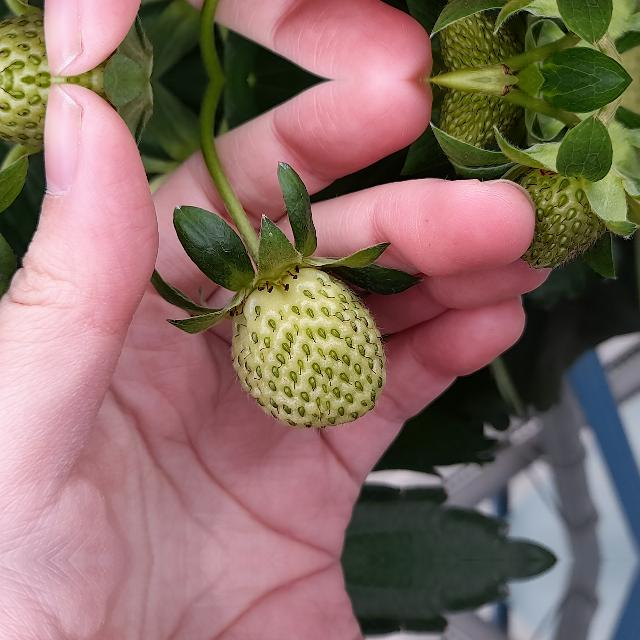Health_25: (230, 267, 386, 427), (526, 139, 604, 271)
